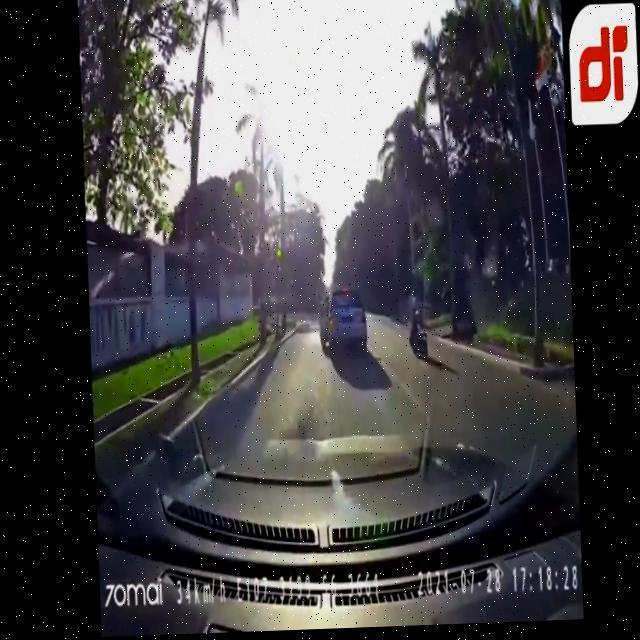normal: (282, 228, 443, 373)
